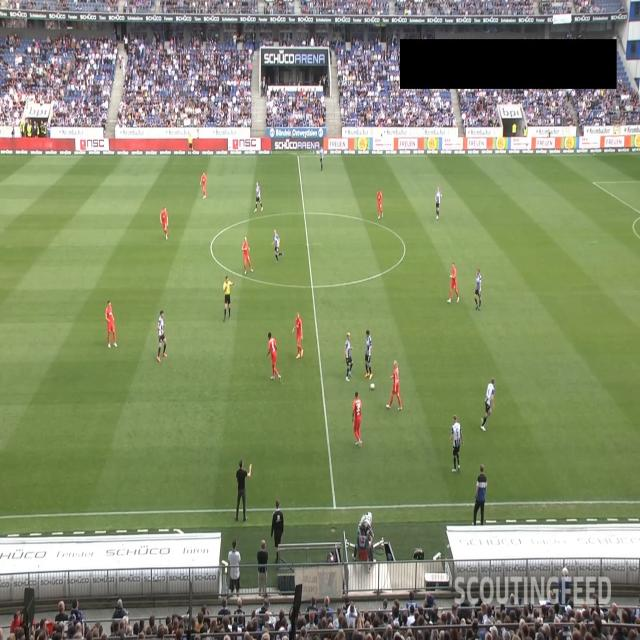ball: (370, 382, 376, 391)
